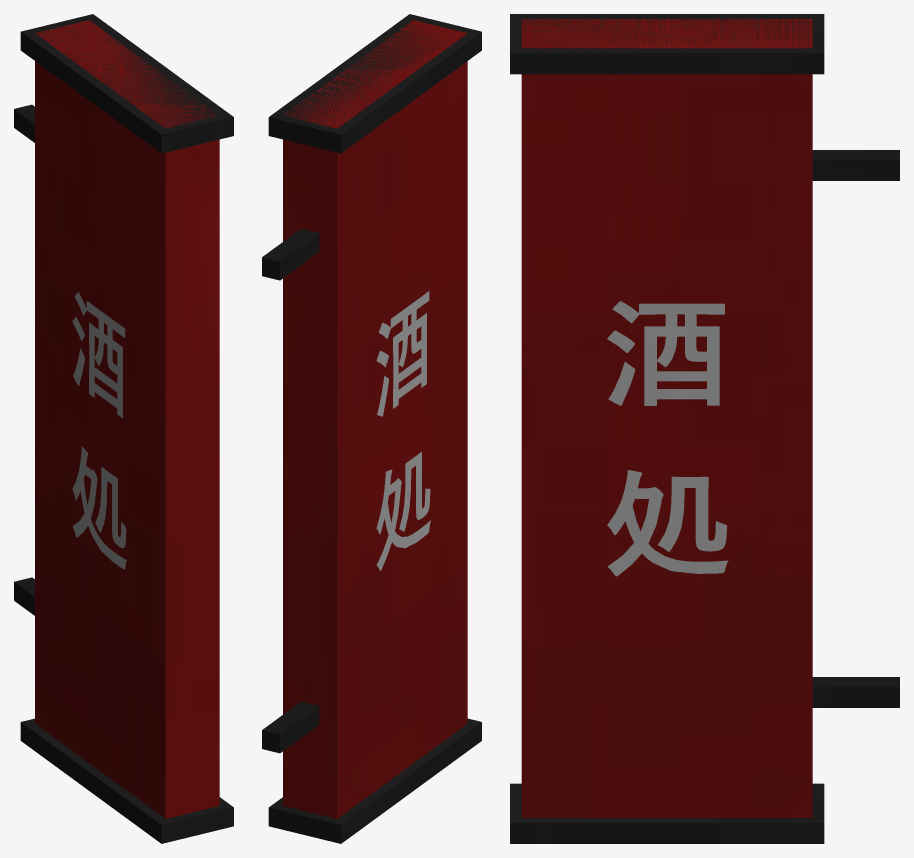
Rendered from sign_vertical_red.glb.
The picture shows the model from 3 angles, left to right: view 1: azimuth 30°, elevation 25°; view 2: azimuth 150°, elevation 25°; view 3: azimuth 270°, elevation 25°; orthographic projection. The views are drawn at different scales.
Parts seen in each view (by area): view 1: sign_vertical_red; view 2: sign_vertical_red; view 3: sign_vertical_red.
Boxes of the visible parts, left/top/right/bottom form: sign_vertical_red: left=14, top=14, right=233, bottom=843; sign_vertical_red: left=262, top=14, right=481, bottom=843; sign_vertical_red: left=510, top=14, right=899, bottom=843.
Size of the model in its own units: 0.16 by 1.5 by 0.67.
Materials: 3 (3 with a texture image).
